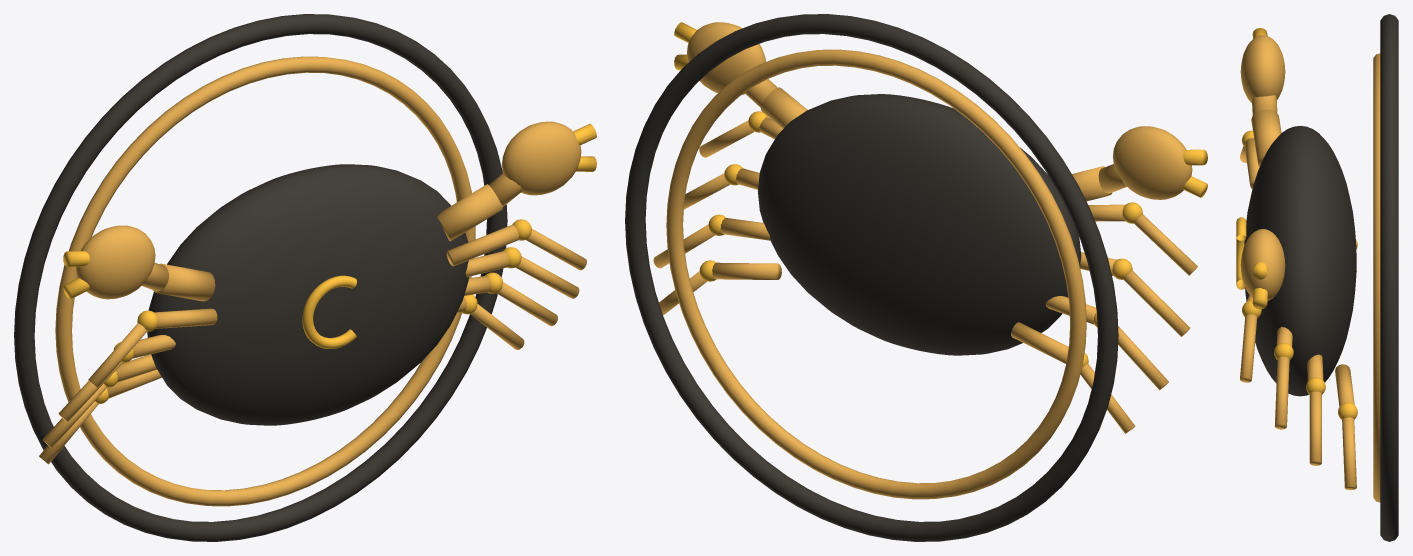
The model's file is cancer-machine.blockout.glb.
3 views of the same model, side by side, from view 1: azimuth 30°, elevation 25°; view 2: azimuth 150°, elevation 25°; view 3: azimuth 270°, elevation 25° (orthographic). The views are drawn at different scales.
Visible parts, largest first — view 1: crab_body, ring_outer, ring_inner, claw_right_palm, claw_left_palm, claw_right_arm, cancer_mark, claw_left_arm, leg_right_01_upper, leg_left_01_upper, leg_left_01_lower, leg_right_02_lower (+7 smaller); view 2: crab_body, ring_outer, ring_inner, claw_left_palm, claw_right_palm, leg_right_04_upper, leg_left_02_lower, claw_right_arm, leg_left_04_upper, leg_left_01_lower, leg_left_03_lower, leg_right_03_upper (+4 smaller); view 3: crab_body, ring_outer, ring_inner, claw_left_palm, claw_right_palm, claw_left_arm, leg_right_03_lower, leg_right_04_lower, leg_right_02_lower, leg_right_01_lower, leg_right_04_upper, cancer_mark (+9 smaller).
Boxes of the visible parts, x1,y1,x2,y2 form: crab_body: (147, 164, 468, 425); ring_outer: (14, 14, 507, 541); ring_inner: (55, 56, 475, 506); claw_right_palm: (501, 121, 581, 195); claw_left_palm: (76, 225, 155, 299); claw_right_arm: (437, 184, 502, 241); cancer_mark: (302, 275, 356, 348); claw_left_arm: (153, 263, 215, 301); leg_right_01_upper: (446, 224, 519, 266); leg_left_01_upper: (154, 308, 217, 328); leg_left_01_lower: (88, 323, 147, 388); leg_right_02_lower: (515, 256, 579, 298); crab_body: (758, 94, 1081, 355); ring_outer: (625, 14, 1118, 541); ring_inner: (666, 49, 1086, 499); claw_left_palm: (1112, 126, 1192, 199); claw_right_palm: (687, 22, 765, 94); leg_right_04_upper: (712, 262, 781, 279); leg_left_02_lower: (1123, 270, 1189, 336); claw_right_arm: (761, 87, 807, 128); leg_left_04_upper: (1011, 322, 1068, 363); leg_left_01_lower: (1134, 214, 1197, 275); leg_left_03_lower: (1118, 326, 1168, 390); leg_right_03_upper: (720, 218, 770, 240); crab_body: (1244, 126, 1356, 396); ring_outer: (1380, 14, 1398, 541); ring_inner: (1373, 53, 1380, 502); claw_left_palm: (1240, 35, 1285, 102); claw_right_palm: (1240, 229, 1285, 300); claw_left_arm: (1251, 109, 1281, 166); leg_right_03_lower: (1309, 391, 1321, 465); leg_right_04_lower: (1342, 417, 1356, 490); leg_right_02_lower: (1274, 356, 1289, 429); leg_right_01_lower: (1240, 314, 1257, 382); leg_right_04_upper: (1335, 364, 1354, 406); cancer_mark: (1236, 217, 1246, 289).
Bounding box in the file's own units: 7.65 × 7.1 × 2.18.
